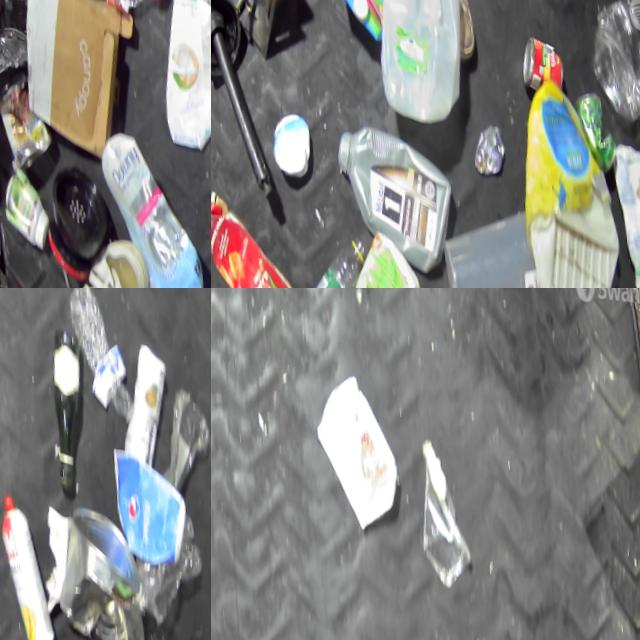can: (0, 485, 50, 640), (0, 66, 48, 174), (512, 26, 563, 88), (0, 0, 34, 79), (465, 116, 505, 171)
milk_jug: (363, 0, 468, 115)
non_white_jug: (504, 80, 627, 288), (325, 113, 448, 271)
plastic_bottle: (56, 288, 134, 415)
